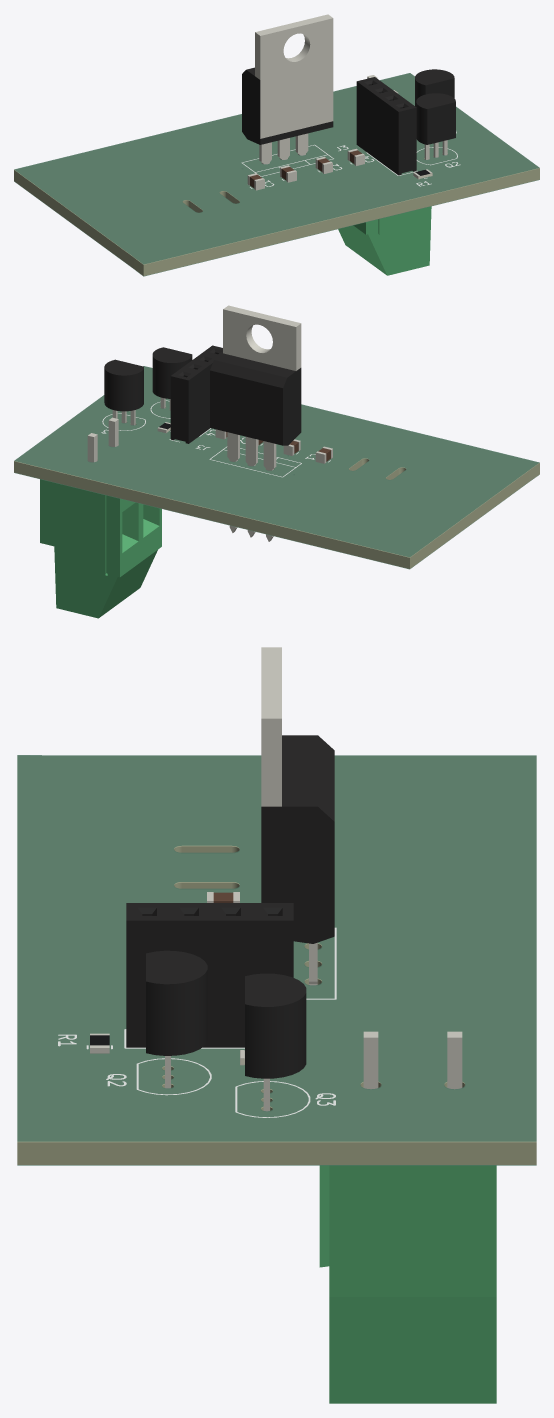
Rendered from FireAlarmLM393.glb.
3 renders of one model, top to bottom at view 1: azimuth 30°, elevation 25°; view 2: azimuth 150°, elevation 25°; view 3: azimuth 270°, elevation 25°, orthographic. The views are drawn at different scales.
Parts seen in each view (by area): view 1: =>[0:1:1:18], =>[0:1:1:16], =>[0:1:1:5], =>[0:1:1:7], =>[0:1:1:13], =>[0:1:1:11] (×2), =>[0:1:1:14], =>[0:1:1:17]; view 2: =>[0:1:1:18], =>[0:1:1:16], =>[0:1:1:13], =>[0:1:1:5], =>[0:1:1:11] (×2), =>[0:1:1:7], =>[0:1:1:17], =>[0:1:1:14]; view 3: =>[0:1:1:18], =>[0:1:1:16], =>[0:1:1:13], =>[0:1:1:5], =>[0:1:1:7], =>[0:1:1:11] (×2), =>[0:1:1:14].
Part boxes in pixels (bbox=[...]): =>[0:1:1:18]: bbox=[14, 74, 539, 276]; =>[0:1:1:16]: bbox=[14, 73, 539, 264]; =>[0:1:1:5]: bbox=[242, 14, 333, 164]; =>[0:1:1:7]: bbox=[356, 77, 416, 175]; =>[0:1:1:13]: bbox=[338, 75, 431, 275]; =>[0:1:1:11] (×2): bbox=[415, 69, 455, 159]; =>[0:1:1:14]: bbox=[241, 131, 460, 188]; =>[0:1:1:17]: bbox=[14, 179, 539, 276]; =>[0:1:1:18]: bbox=[14, 367, 539, 568]; =>[0:1:1:16]: bbox=[14, 366, 539, 557]; =>[0:1:1:13]: bbox=[40, 417, 161, 618]; =>[0:1:1:5]: bbox=[210, 305, 301, 541]; =>[0:1:1:11] (×2): bbox=[104, 347, 192, 425]; =>[0:1:1:7]: bbox=[170, 345, 222, 443]; =>[0:1:1:17]: bbox=[14, 472, 539, 569]; =>[0:1:1:14]: bbox=[101, 400, 330, 477]; =>[0:1:1:18]: bbox=[17, 756, 536, 1164]; =>[0:1:1:16]: bbox=[17, 755, 536, 1141]; =>[0:1:1:13]: bbox=[319, 1031, 496, 1403]; =>[0:1:1:5]: bbox=[261, 647, 334, 985]; =>[0:1:1:7]: bbox=[126, 903, 293, 1047]; =>[0:1:1:11] (×2): bbox=[146, 950, 306, 1111]; =>[0:1:1:14]: bbox=[58, 927, 336, 1117].
Bounding box in the file's own units: 0.0555 × 0.0385 × 0.0315.
